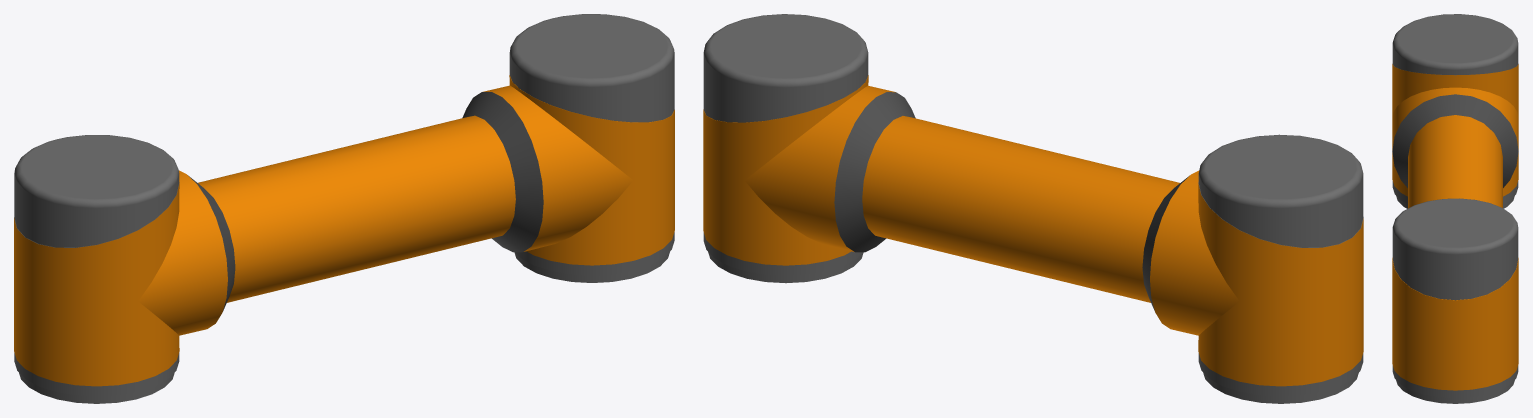
The picture shows the model from 3 angles, left to right: view 1: azimuth 30°, elevation 25°; view 2: azimuth 150°, elevation 25°; view 3: azimuth 270°, elevation 25°; orthographic projection. The views are drawn at different scales.
Visible parts, largest first — view 1: NONE-lib; view 2: NONE-lib; view 3: NONE-lib.
Boxes of the visible parts, box(x1,y1,x2,y2) form: NONE-lib: box(14, 14, 674, 403); NONE-lib: box(703, 14, 1363, 403); NONE-lib: box(1392, 14, 1518, 403).
Size of the model in its own units: 0.526 by 0.1603 by 0.118.
